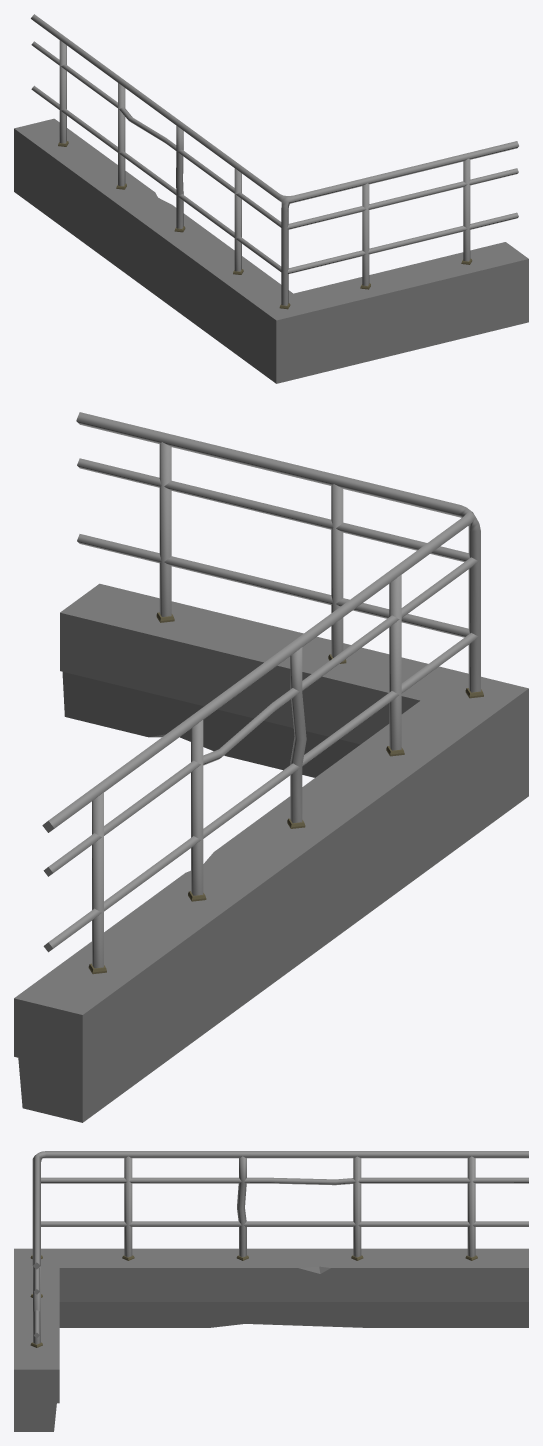
File: SW_ENV_StationStair_Opening_B02_FF.fbx
3 renders of one model, top to bottom at view 1: azimuth 30°, elevation 25°; view 2: azimuth 150°, elevation 25°; view 3: azimuth 270°, elevation 25°, orthographic. The views are drawn at different scales.
Visible parts, largest first — view 1: SW_ENV_StationStair_Opening_B02_FF; view 2: SW_ENV_StationStair_Opening_B02_FF; view 3: SW_ENV_StationStair_Opening_B02_FF.
Part boxes in pixels (left/top/right/bottom): SW_ENV_StationStair_Opening_B02_FF: left=14, top=14, right=528, bottom=383; SW_ENV_StationStair_Opening_B02_FF: left=14, top=412, right=528, bottom=1122; SW_ENV_StationStair_Opening_B02_FF: left=14, top=1151, right=528, bottom=1431.
Bounding box in the file's own units: 2.5 × 1.64 × 4.5.
